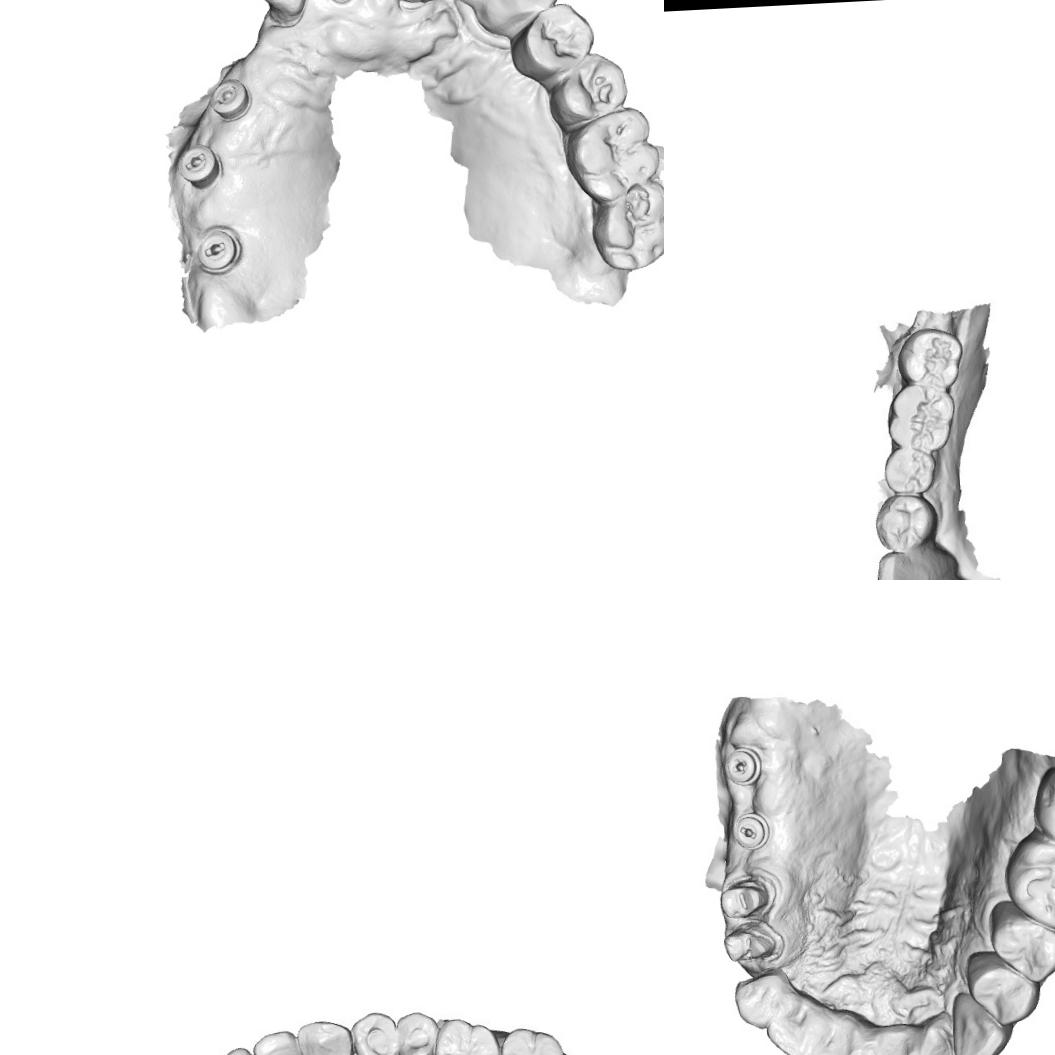canine: (730, 972, 788, 1030), (949, 1001, 1010, 1055), (477, 0, 562, 37), (875, 543, 952, 580), (293, 1011, 355, 1055)
crown: (720, 924, 778, 963), (718, 881, 770, 921)
implant_minus: (191, 222, 240, 276), (176, 140, 223, 189), (204, 76, 250, 122), (731, 810, 771, 851)
implant_plus: (722, 745, 763, 788)
incisor: (764, 1007, 820, 1055), (851, 1025, 919, 1055), (247, 1028, 310, 1055), (911, 1023, 960, 1055), (800, 1029, 860, 1055), (245, 0, 310, 16)
molar: (560, 104, 660, 203), (589, 179, 664, 272), (1001, 829, 1055, 930), (884, 382, 955, 448), (897, 326, 963, 394), (427, 1014, 497, 1055), (1027, 763, 1055, 860), (496, 1024, 569, 1055)
premolar: (516, 1, 596, 76), (966, 954, 1044, 1030), (552, 49, 632, 122), (989, 908, 1055, 987), (877, 495, 934, 551), (389, 1007, 447, 1055), (349, 1005, 400, 1055), (883, 446, 931, 492)
